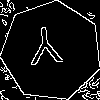Y: (26, 26, 65, 75)
